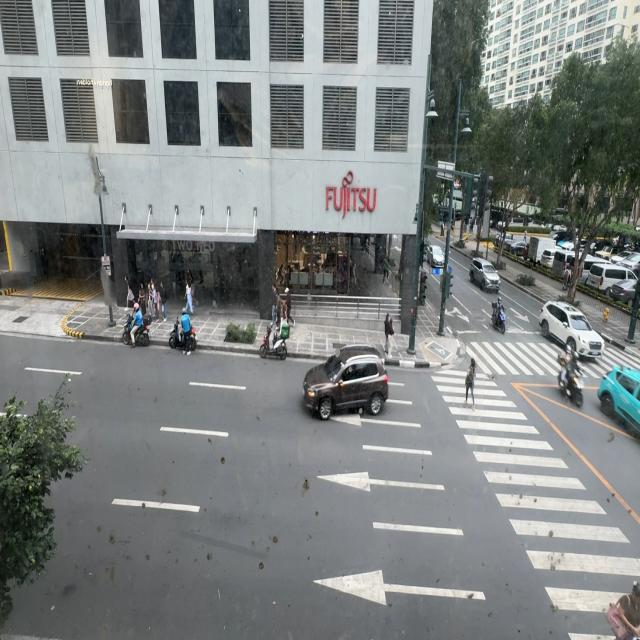crossing: (466, 358, 477, 409)
pedestrain: (282, 287, 296, 329), (270, 282, 282, 329), (383, 311, 393, 357), (147, 282, 156, 319), (138, 283, 146, 317)
